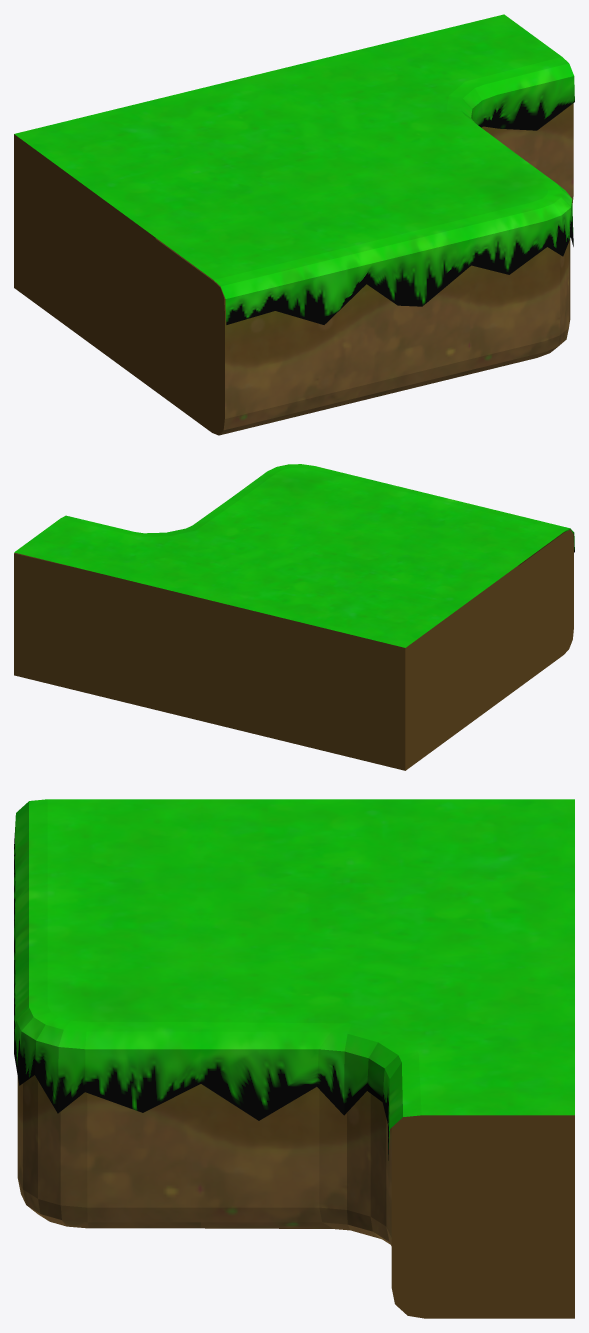
File: normalGround.gltf
The picture shows the model from 3 angles, top to bottom: view 1: azimuth 30°, elevation 25°; view 2: azimuth 150°, elevation 25°; view 3: azimuth 270°, elevation 25°; orthographic projection. The views are drawn at different scales.
Parts seen in each view (by area): view 1: GRS_TB; view 2: GRS_TB; view 3: GRS_TB.
Part boxes in pixels (bbox=[...]): GRS_TB: bbox=[14, 14, 574, 435]; GRS_TB: bbox=[14, 464, 574, 770]; GRS_TB: bbox=[14, 799, 574, 1318].
Bounding box in the file's own units: 4 × 1.2 × 3.
1 material, 1 textured.
